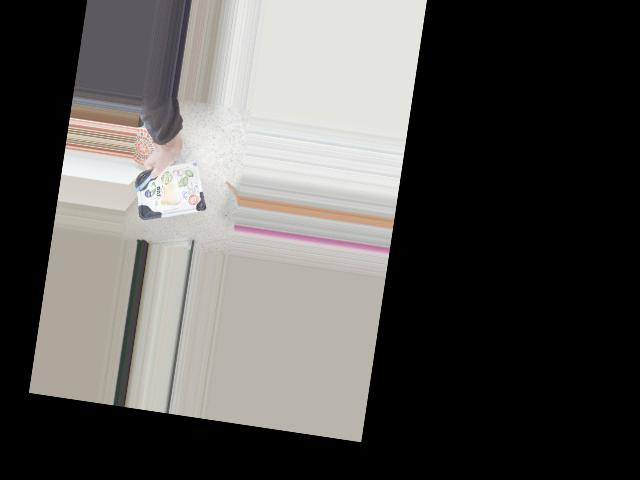cheese: (129, 155, 212, 229)
